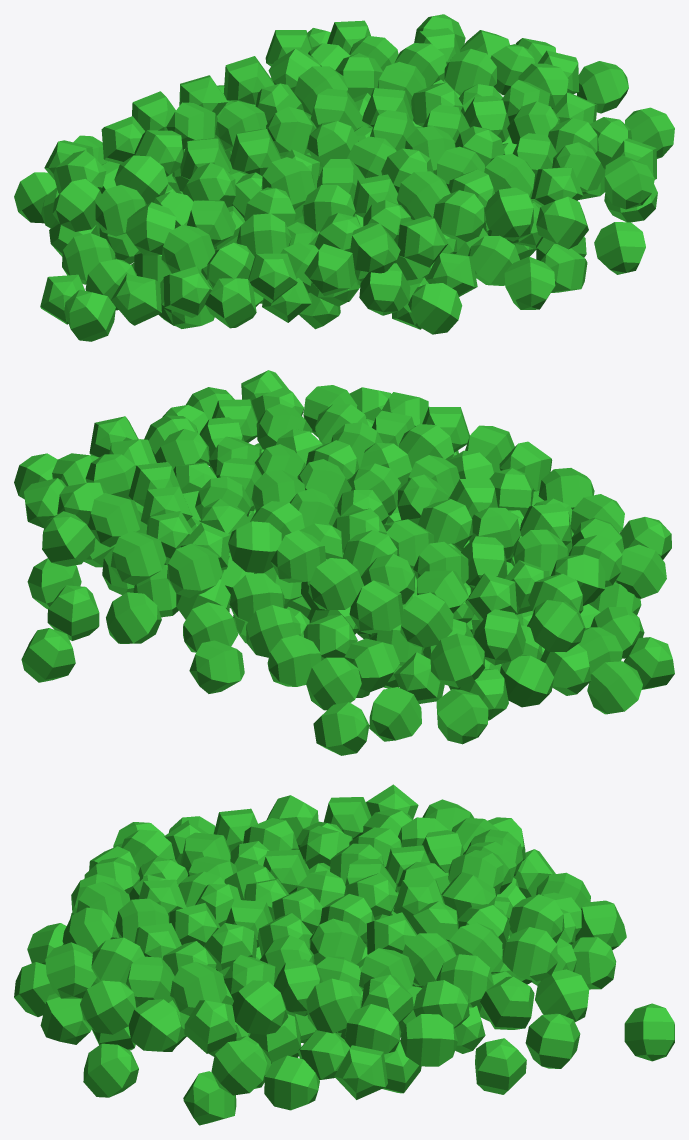
Rendered from peas_model.fbx.
The picture shows the model from 3 angles, top to bottom: view 1: azimuth 30°, elevation 25°; view 2: azimuth 150°, elevation 25°; view 3: azimuth 270°, elevation 25°; orthographic projection. The views are drawn at different scales.
Visible parts, largest first — view 1: pea194, pea106, pea169, pea58, pea124, pea143, pea33, pea40, pea77, pea46, pea108, pea35 (+97 smaller); view 2: pea73, pea211, pea172, pea105, pea213, pea64, pea174, pea74, pea76, pea197, pea23, pea239 (+99 smaller); view 3: pea48, pea50, pea106, pea127, pea147, pea23, pea49, pea169, pea173, pea47, pea219, pea104 (+88 smaller).
Boxes of the visible parts, bbox=[...] form: pea194: bbox=[408, 283, 462, 334]; pea106: bbox=[604, 155, 654, 209]; pea169: bbox=[594, 222, 645, 274]; pea58: bbox=[484, 187, 533, 241]; pea124: bbox=[64, 289, 115, 341]; pea143: bbox=[504, 256, 555, 309]; pea33: bbox=[433, 190, 485, 242]; pea40: bbox=[536, 196, 588, 249]; pea77: bbox=[205, 278, 256, 328]; pea46: bbox=[577, 61, 628, 113]; pea108: bbox=[161, 224, 214, 273]; pea35: bbox=[350, 223, 400, 273]; pea73: bbox=[430, 633, 485, 687]; pea211: bbox=[106, 592, 161, 643]; pea172: bbox=[587, 661, 642, 714]; pea105: bbox=[42, 511, 95, 566]; pea213: bbox=[436, 689, 488, 744]; pea64: bbox=[167, 543, 222, 598]; pea174: bbox=[369, 687, 421, 741]; pea74: bbox=[529, 599, 585, 651]; pea76: bbox=[400, 592, 453, 647]; pea197: bbox=[313, 702, 369, 755]; pea23: bbox=[110, 530, 166, 585]; pea239: bbox=[306, 657, 361, 710]; pea48: bbox=[400, 1014, 457, 1066]; pea50: bbox=[211, 1039, 267, 1095]; pea106: bbox=[80, 980, 136, 1034]; pea127: bbox=[264, 1055, 319, 1110]; pea147: bbox=[525, 1013, 580, 1068]; pea23: bbox=[502, 927, 557, 981]; pea49: bbox=[232, 980, 288, 1034]; pea169: bbox=[83, 1043, 138, 1097]; pea173: bbox=[624, 1003, 674, 1061]; pea47: bbox=[128, 999, 184, 1051]; pea219: bbox=[475, 1038, 526, 1094]; pea104: bbox=[306, 978, 361, 1033].
Size of the model in its own units: 62.07 by 15.87 by 56.72.
